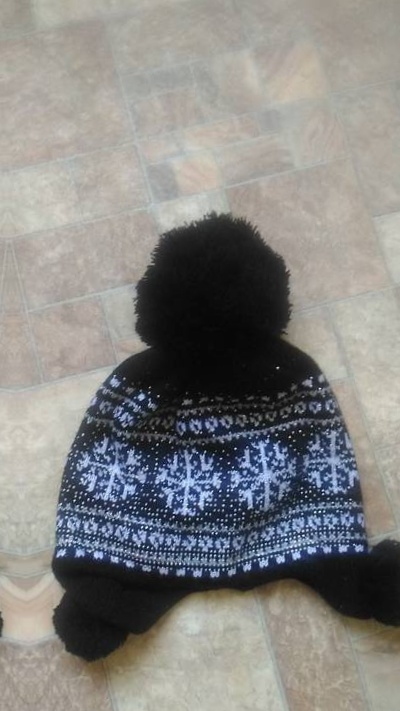Hat: (8, 185, 400, 699), (0, 205, 30, 711)
